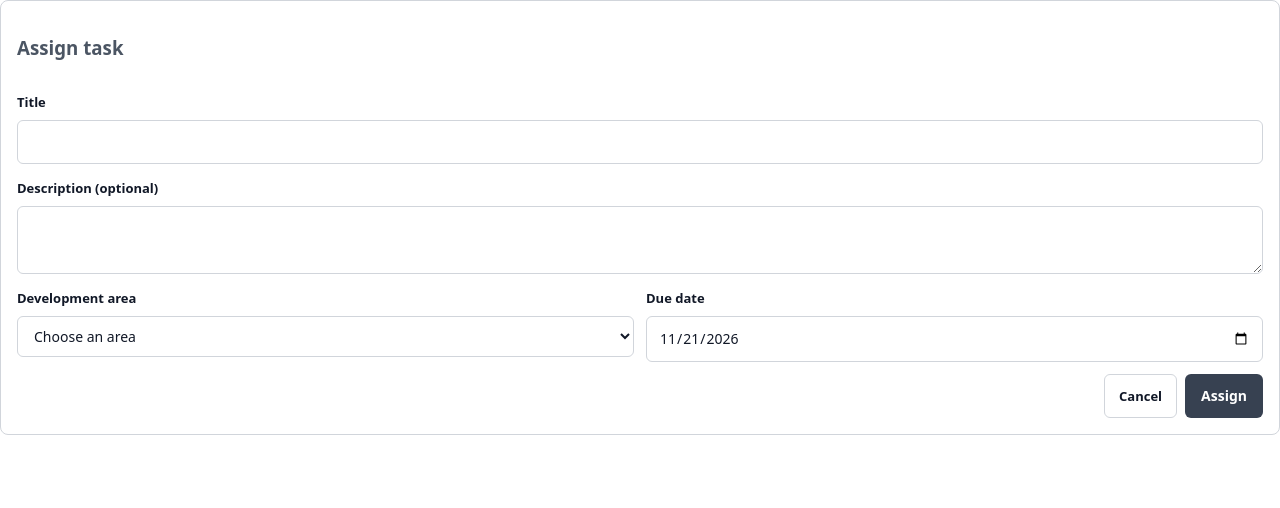
Test: AssignTaskForm (M4) › does not submit without a title, due date or development area (FR-M4-05)
This screenshot has width=1280, height=508.
Click the button "Assign" at (1224, 396), box [1185,374,1263,418]
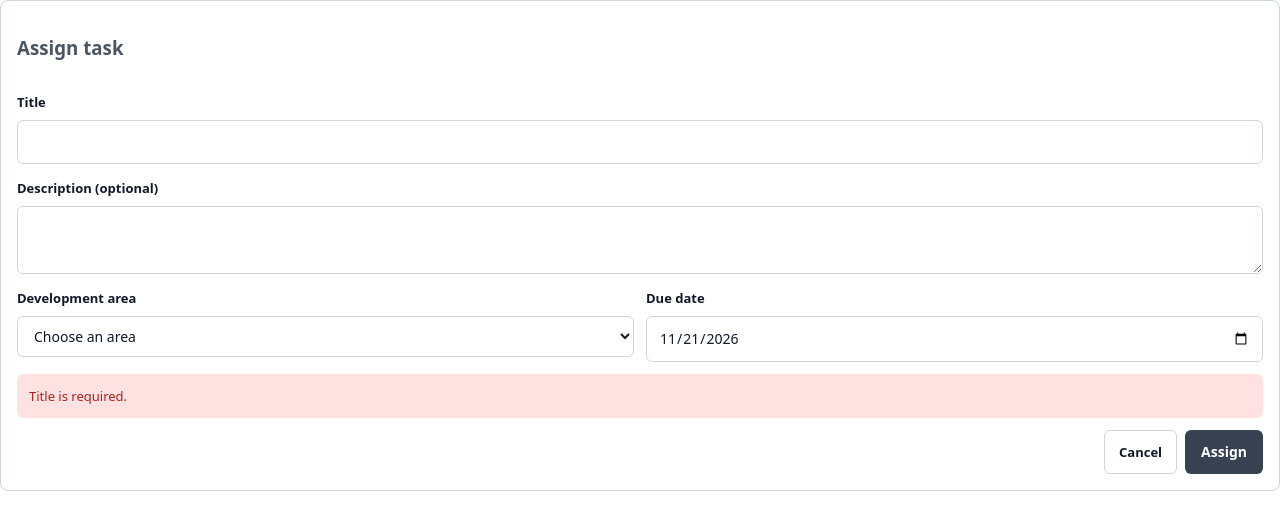
Check: the message reads "Title is required.", box [29,387,127,405]
Type "Read" into the field labelled "Title" at (640, 142), box [17,120,1263,164]
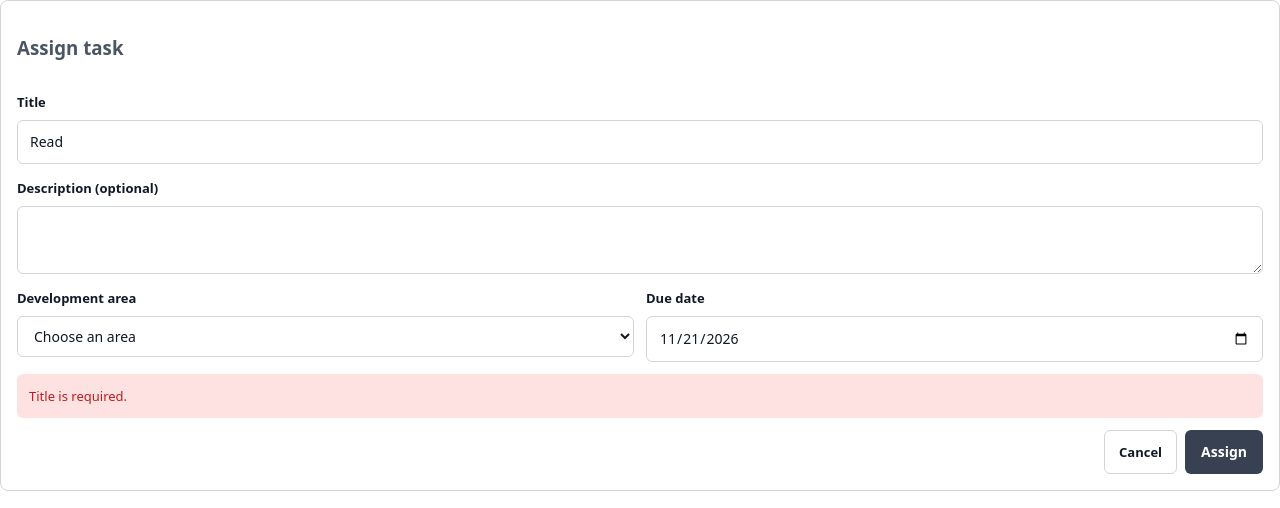
Clear the date field labelled "Due date" at (954, 339), box [646,316,1263,362]
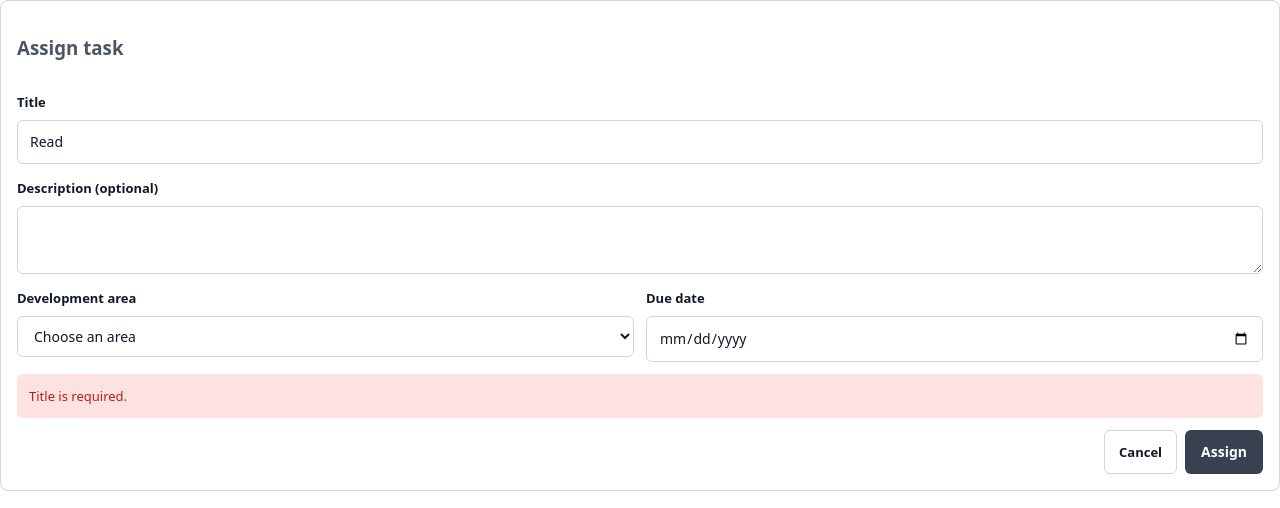
Click the button "Assign" at (1224, 452), box [1185,430,1263,474]
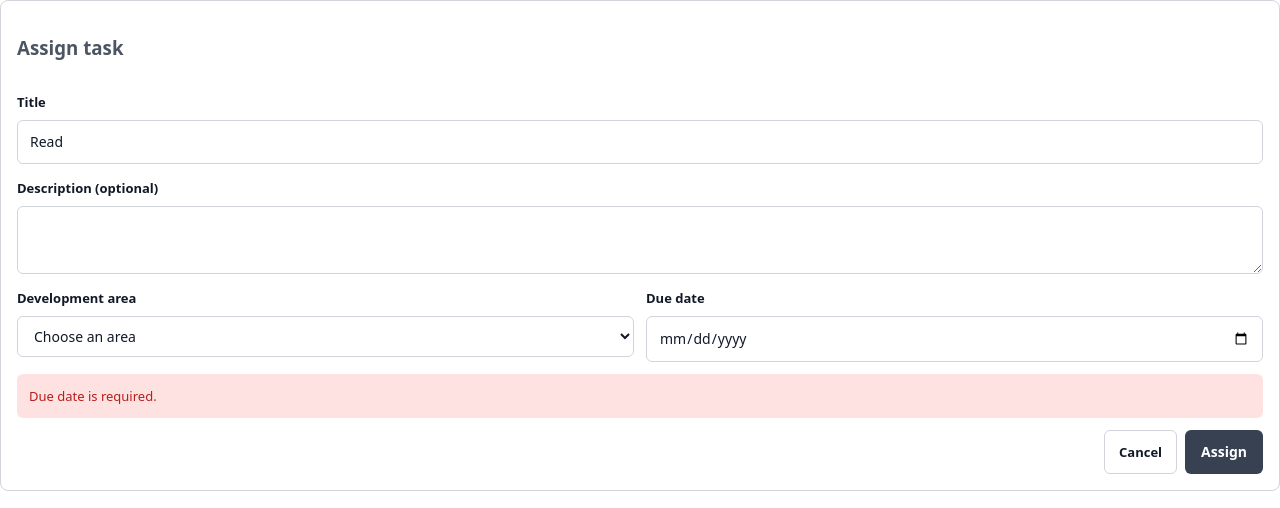
Check: the message reads "Due date is required.", box [29,387,157,405]
Type "2026-11-20" into the date field labelled "Due date" at (954, 339), box [646,316,1263,362]
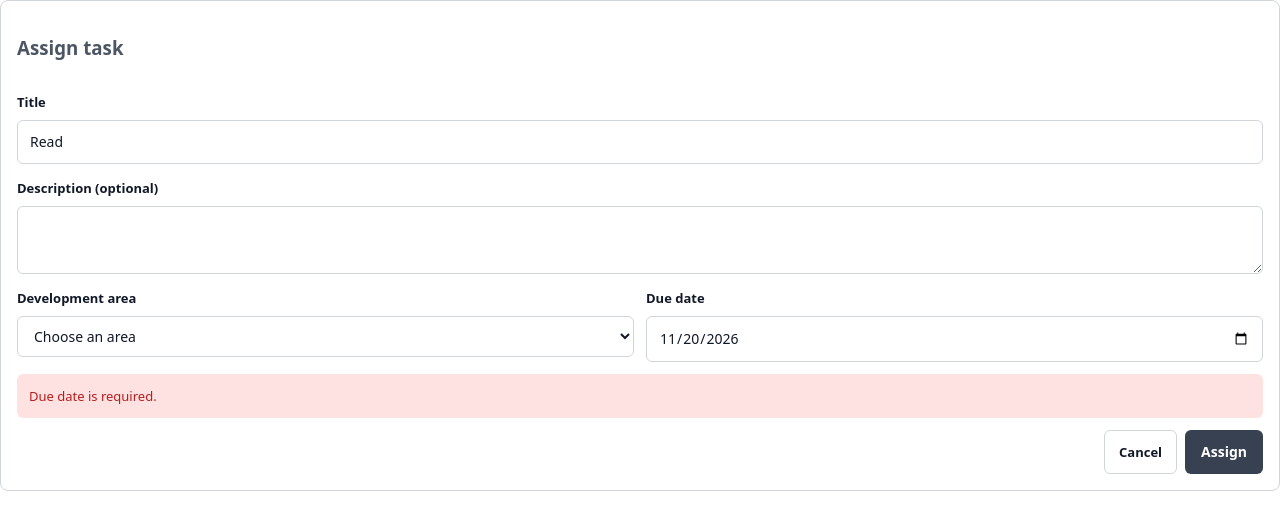
Click the button "Assign" at (1224, 452), box [1185,430,1263,474]
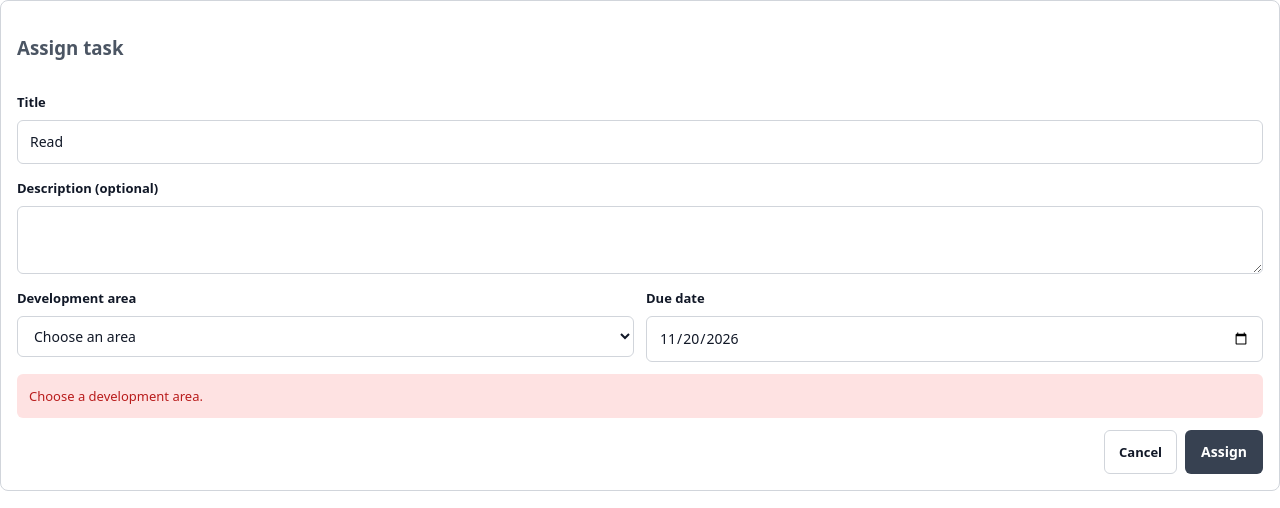
Check: the message reads "Choose a development area.", box [29,387,203,405]
